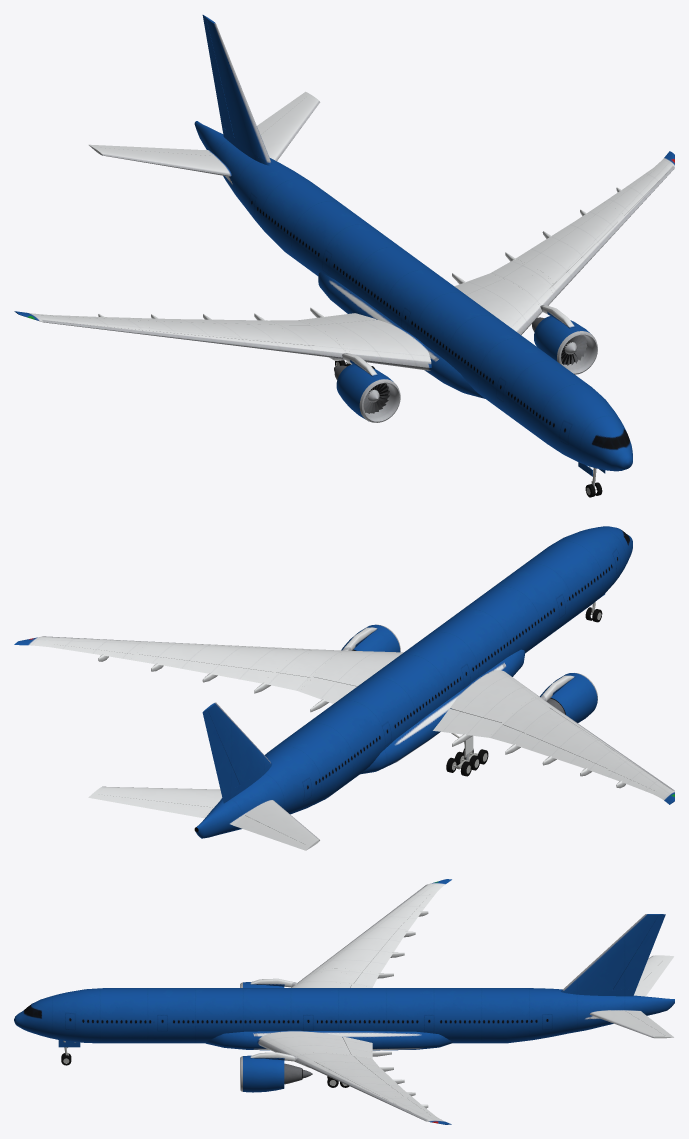
File: B777_web.glb
The picture shows the model from 3 angles, top to bottom: view 1: azimuth 30°, elevation 25°; view 2: azimuth 150°, elevation 25°; view 3: azimuth 270°, elevation 25°; orthographic projection. The views are drawn at different scales.
Visible parts, largest first — view 1: Airframe, Stab, Slat_R, Slat_L, Rudder, FlapOut_L; view 2: Airframe, Stab, FlapOut_L, FlapIn_R, Rudder, FlapOut_R, Elevator_L, FlapIn_L, Elevator_R, MainWheels_R, Flaperon_L; view 3: Airframe, Stab, Rudder, FlapOut_R, Slat_L, Elevator_R, FlapIn_L.
Boxes of the visible parts, <box> form: Airframe: <box>14,15,674,471</box>; Stab: <box>88,91,320,176</box>; Slat_R: <box>51,321,320,355</box>; Slat_L: <box>550,170,670,297</box>; Rudder: <box>203,17,234,137</box>; FlapOut_L: <box>515,203,607,262</box>; Airframe: <box>14,526,674,838</box>; Stab: <box>88,786,319,850</box>; FlapOut_L: <box>132,654,272,683</box>; FlapIn_R: <box>433,708,501,737</box>; Rudder: <box>203,711,239,795</box>; FlapOut_R: <box>515,734,606,774</box>; Elevator_L: <box>92,794,211,817</box>; FlapIn_L: <box>300,677,356,703</box>; Elevator_R: <box>234,815,307,849</box>; MainWheels_R: <box>446,748,488,776</box>; Flaperon_L: <box>265,672,309,690</box>; Airframe: <box>14,879,674,1124</box>; Stab: <box>589,955,673,1038</box>; Rudder: <box>613,916,664,989</box>; FlapOut_R: <box>364,921,413,972</box>; Slat_L: <box>305,1061,423,1119</box>; Elevator_R: <box>634,957,672,996</box>; FlapIn_L: <box>342,1036,372,1058</box>.
Bounding box in the file's own units: 64.8 × 18.42 × 73.86.
1 material, 1 textured.
